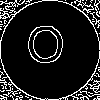O: (25, 25, 66, 73)
